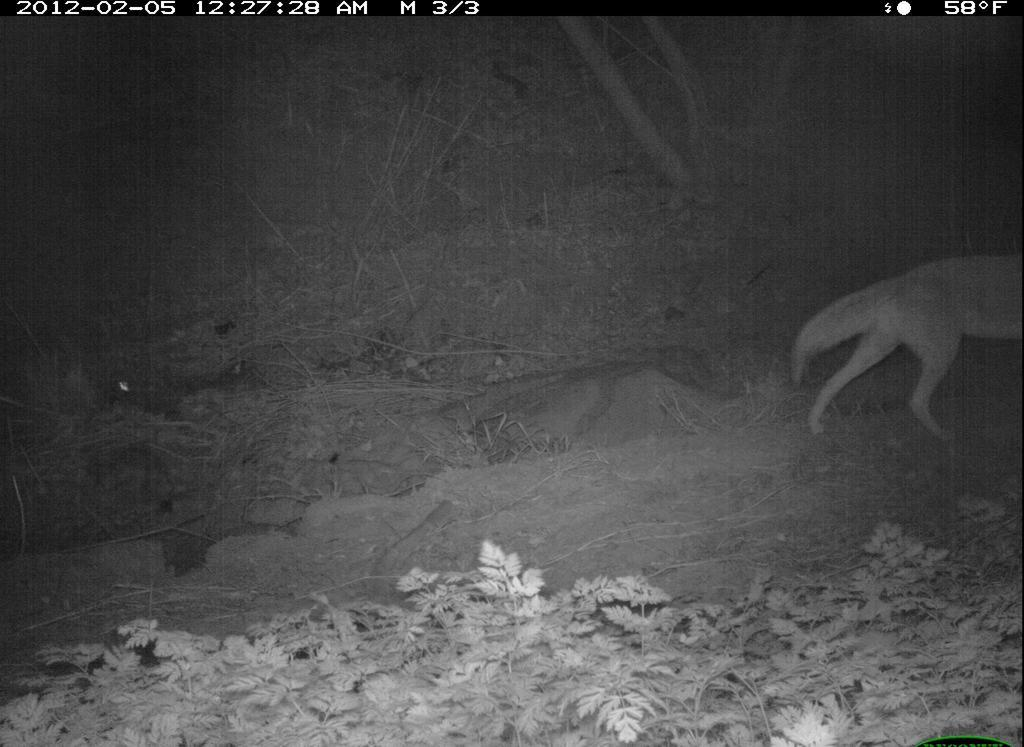coyote: (785, 240, 1023, 442)
